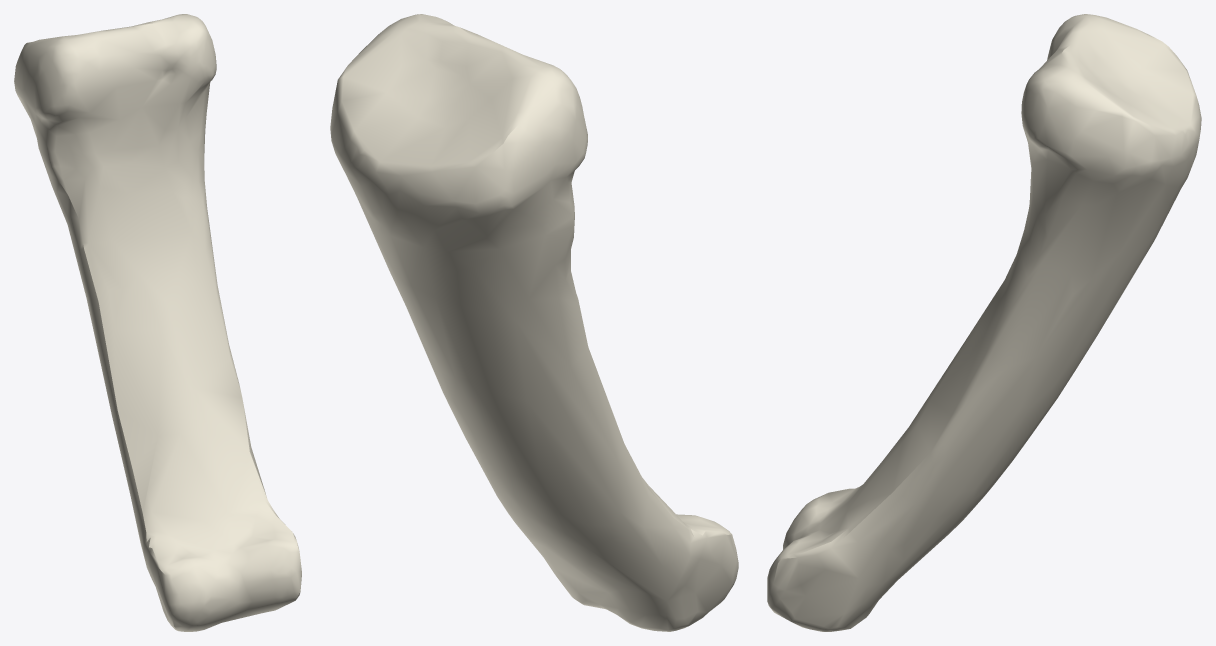
Rendered from fma24453.glb.
3 renders of one model, left to right at view 1: azimuth 30°, elevation 25°; view 2: azimuth 150°, elevation 25°; view 3: azimuth 270°, elevation 25°, orthographic. The views are drawn at different scales.
Parts seen in each view (by area): view 1: FMA24453; view 2: FMA24453; view 3: FMA24453.
Boxes of the visible parts, x1,y1,x2,y2 form: FMA24453: (14, 14, 301, 631); FMA24453: (330, 14, 738, 631); FMA24453: (767, 14, 1201, 631).
Bounding box in the file's own units: 0.0138 × 0.0393 × 0.0264.
